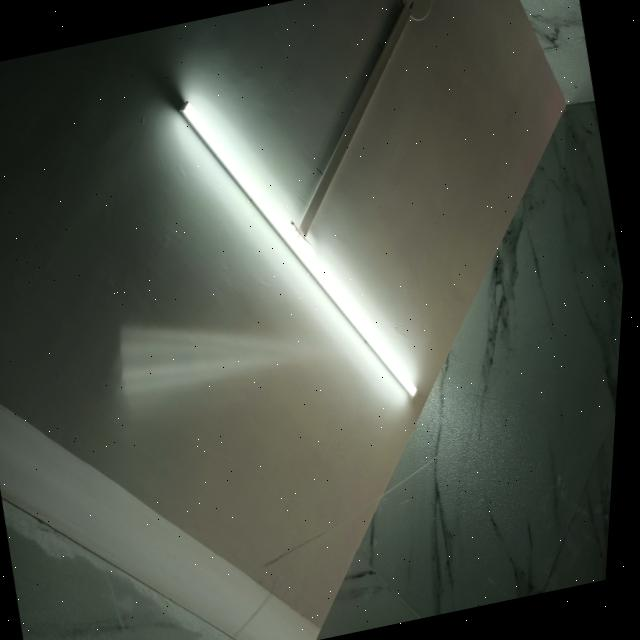light_off: (165, 63, 438, 433)
